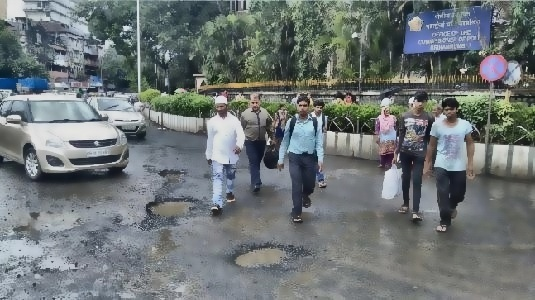pothole: (230, 242, 288, 268), (145, 195, 201, 221), (156, 167, 184, 180)
